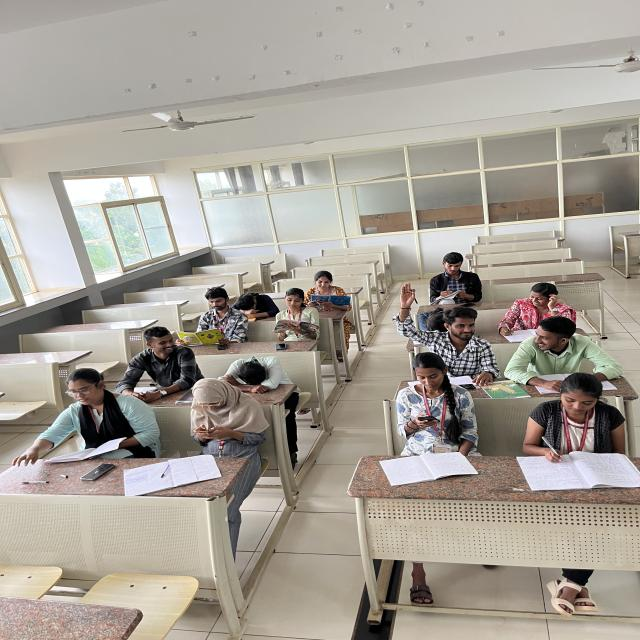Hand Rising: (388, 281, 495, 366)
Reading: (178, 289, 239, 343), (300, 268, 354, 310), (275, 289, 317, 339)
Sleeping: (230, 289, 278, 320)
Using Phone: (399, 351, 467, 437), (188, 376, 250, 454)
Writing: (523, 373, 617, 468), (498, 281, 582, 344), (428, 254, 481, 299)
